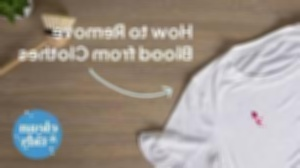blood: (251, 110, 269, 128)
